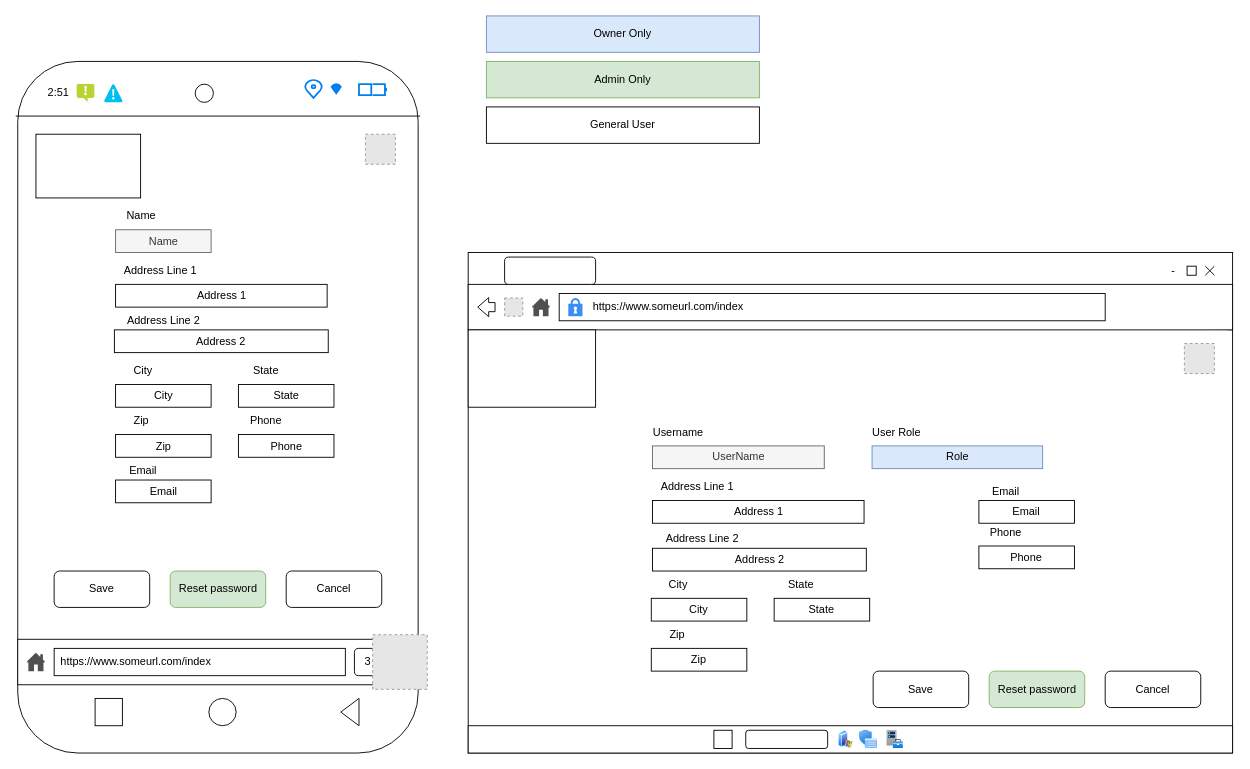
The diagram is 1250 pixels wide and 769 high, and some of its shapes have lost their labels. Grey dashed boxes stand in for pictures. Here are the shapes that lost their labels. From the top down, the centre of each, then its label:
(88,165): Logo
(550,270): Tab
(531,368): Company Logo
(786,738): Search
